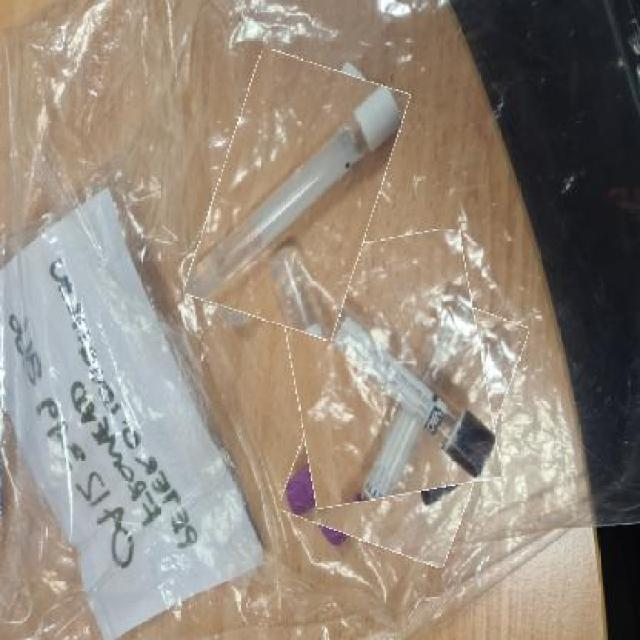Experimental-tube: (298, 280, 510, 557), (284, 235, 491, 502), (202, 56, 393, 332)
